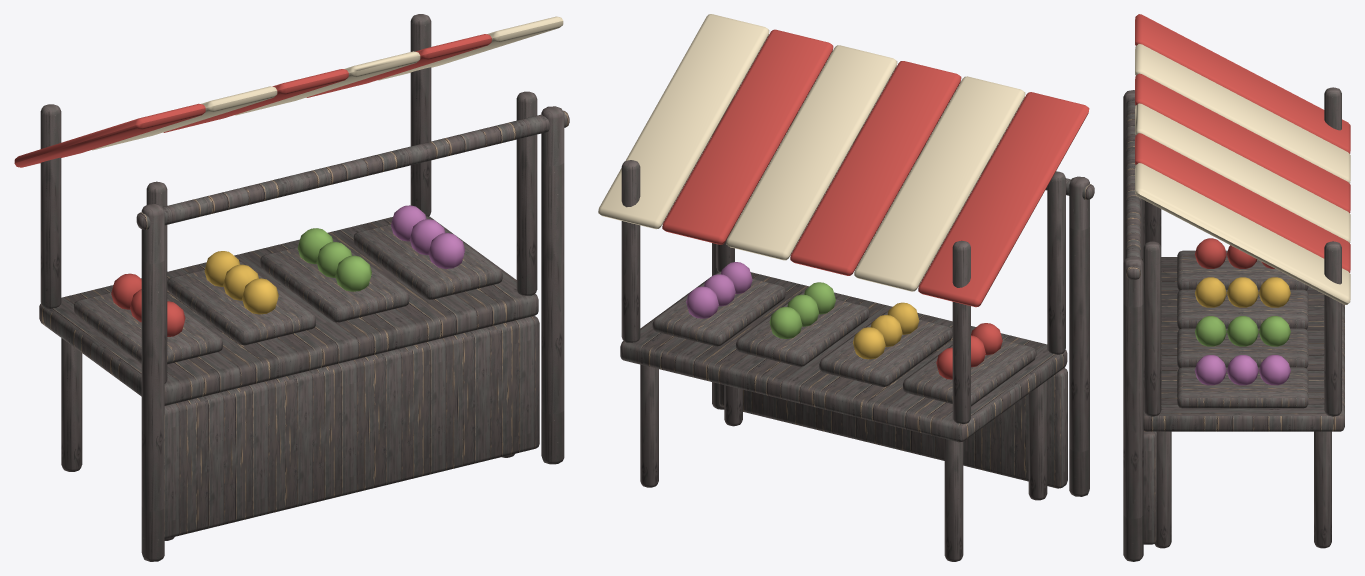
File: market_stall.gltf
3 views of the same model, side by side, from view 1: azimuth 30°, elevation 25°; view 2: azimuth 150°, elevation 25°; view 3: azimuth 270°, elevation 25° (orthographic). The views are drawn at different scales.
Parts seen in each view (by area): view 1: market_stall; view 2: market_stall; view 3: market_stall.
Boxes of the visible parts, x1=… form: market_stall: x1=14, y1=14, x2=569, y2=561; market_stall: x1=598, y1=14, x2=1094, y2=561; market_stall: x1=1123, y1=14, x2=1350, y2=561.
Size of the model in its own units: 2.9 by 2.84 by 1.56.
2 materials, 2 textured.
